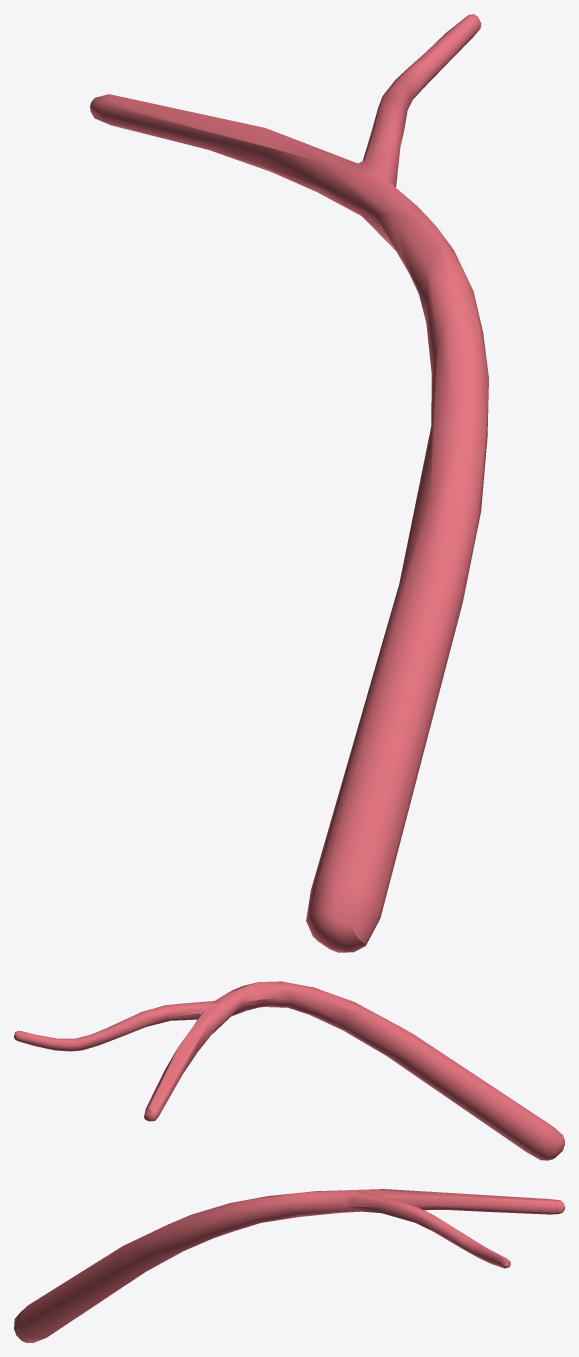
The model's file is fma15425_fj4563.glb.
3 renders of one model, top to bottom at view 1: azimuth 30°, elevation 25°; view 2: azimuth 150°, elevation 25°; view 3: azimuth 270°, elevation 25°, orthographic. The views are drawn at different scales.
Parts seen in each view (by area): view 1: FMA15425_FJ4563; view 2: FMA15425_FJ4563; view 3: FMA15425_FJ4563.
Boxes of the visible parts, x1,y1,x2,y2 form: FMA15425_FJ4563: (90,14,488,952); FMA15425_FJ4563: (14,981,564,1160); FMA15425_FJ4563: (14,1189,564,1342).
Size of the model in its own units: 0.0229 by 0.0163 by 0.0338.
